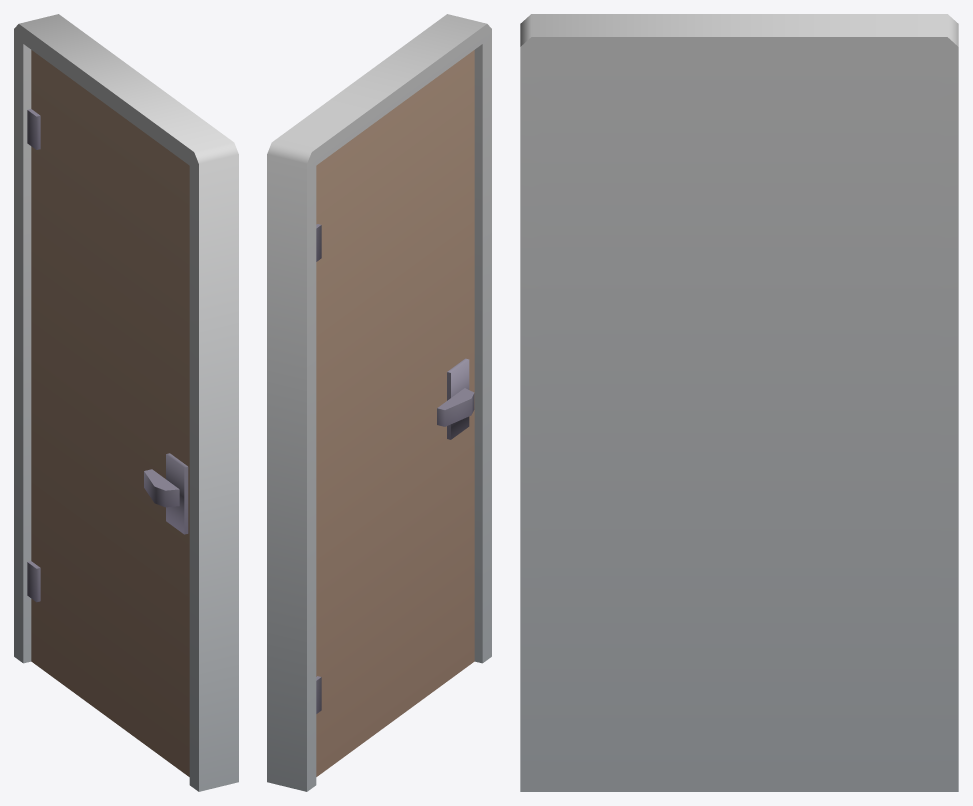
Rendered from door-basic (%wall) (%thumbnail).glb.
The picture shows the model from 3 angles, left to right: view 1: azimuth 30°, elevation 25°; view 2: azimuth 150°, elevation 25°; view 3: azimuth 270°, elevation 25°; orthographic projection. The views are drawn at different scales.
Parts seen in each view (by area): view 1: door-basic (%wall) (%thumbnail); view 2: door-basic (%wall) (%thumbnail); view 3: door-basic (%wall) (%thumbnail).
Part boxes in pixels (left/top/right/bottom): door-basic (%wall) (%thumbnail): left=14, top=14, right=238, bottom=791; door-basic (%wall) (%thumbnail): left=267, top=14, right=491, bottom=791; door-basic (%wall) (%thumbnail): left=520, top=14, right=958, bottom=791.
Size of the model in its own units: 0.1625 by 1.9 by 1.
